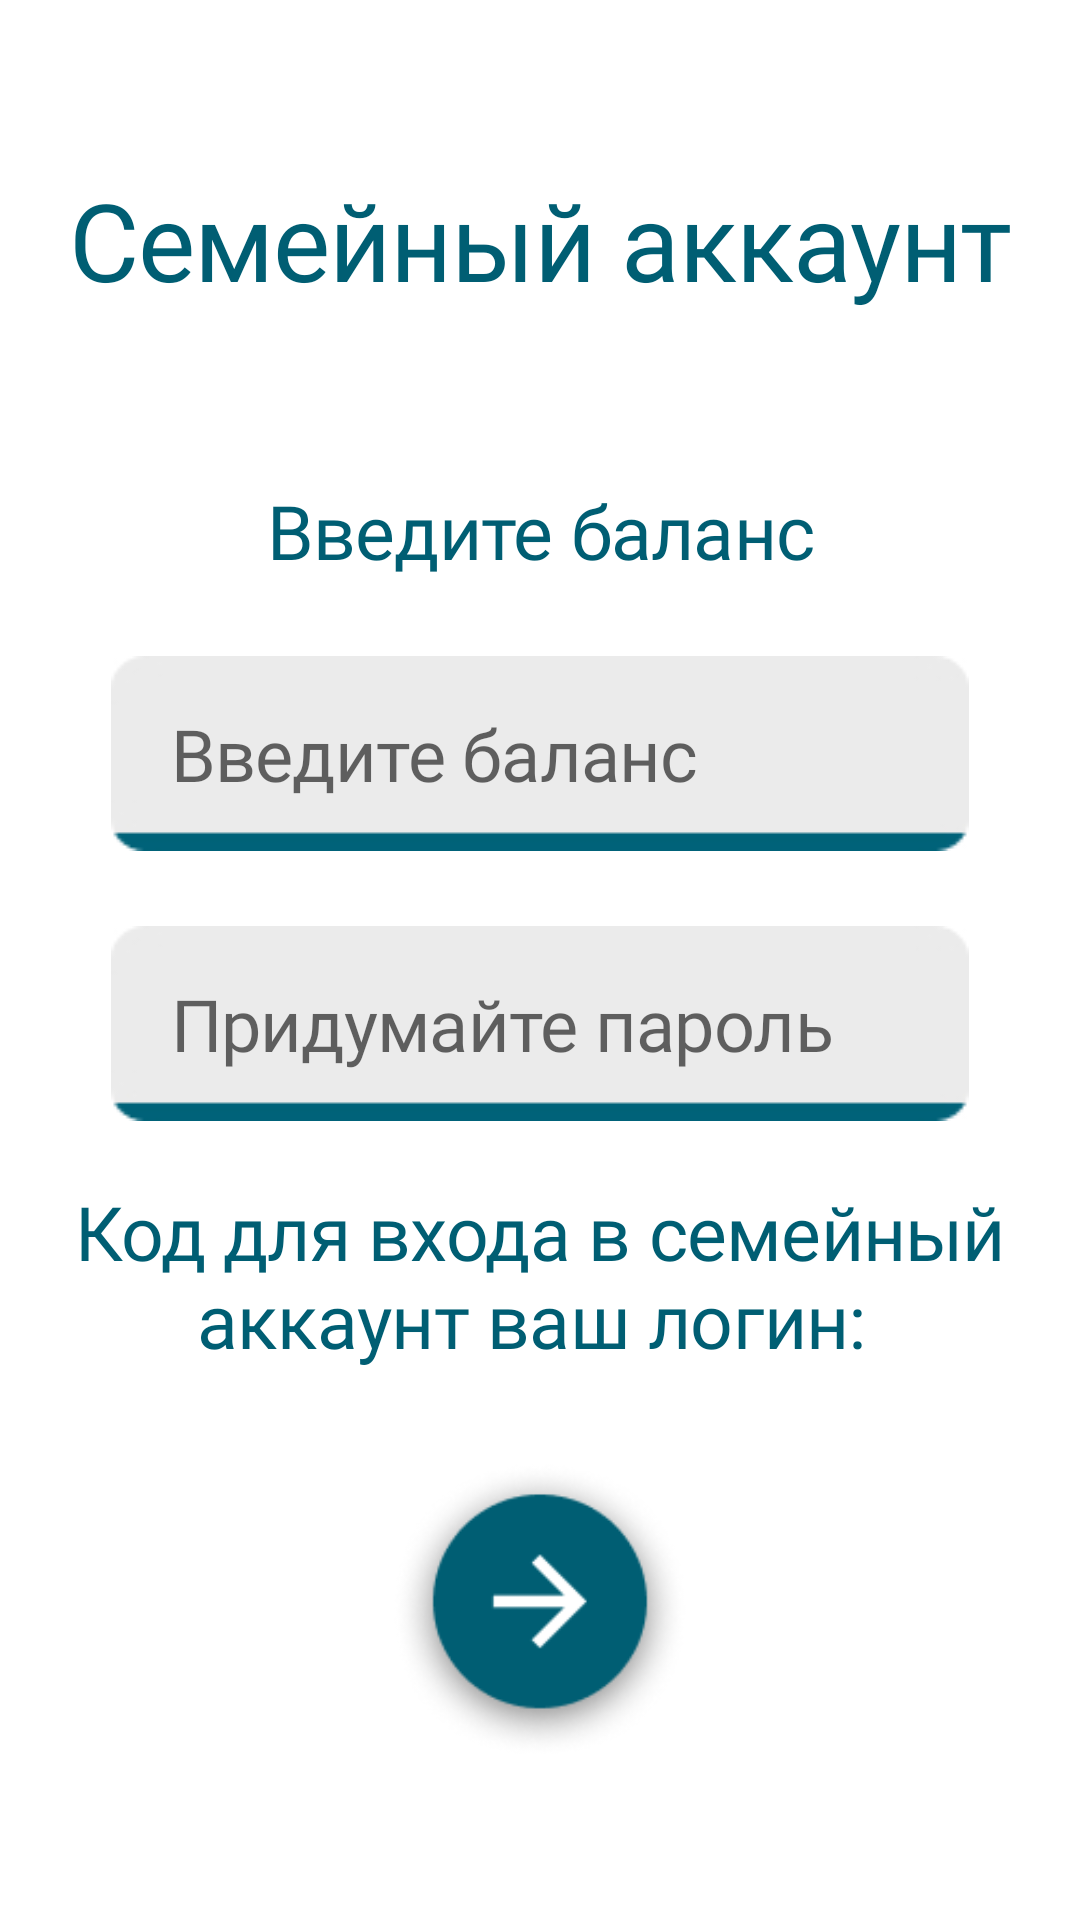

Screen size 1080 × 1920. Icon name, then its box in pixels as (x1, y1, x2, y2):
next: (418, 1488, 662, 1732)
